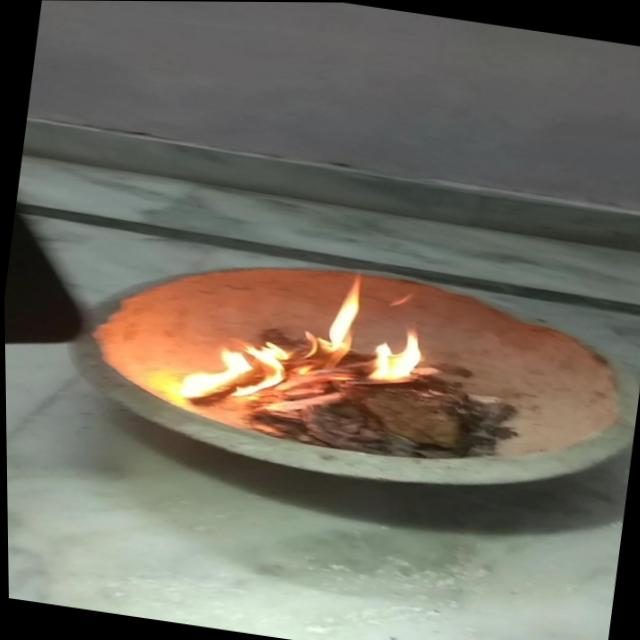fire: (166, 256, 452, 434)
